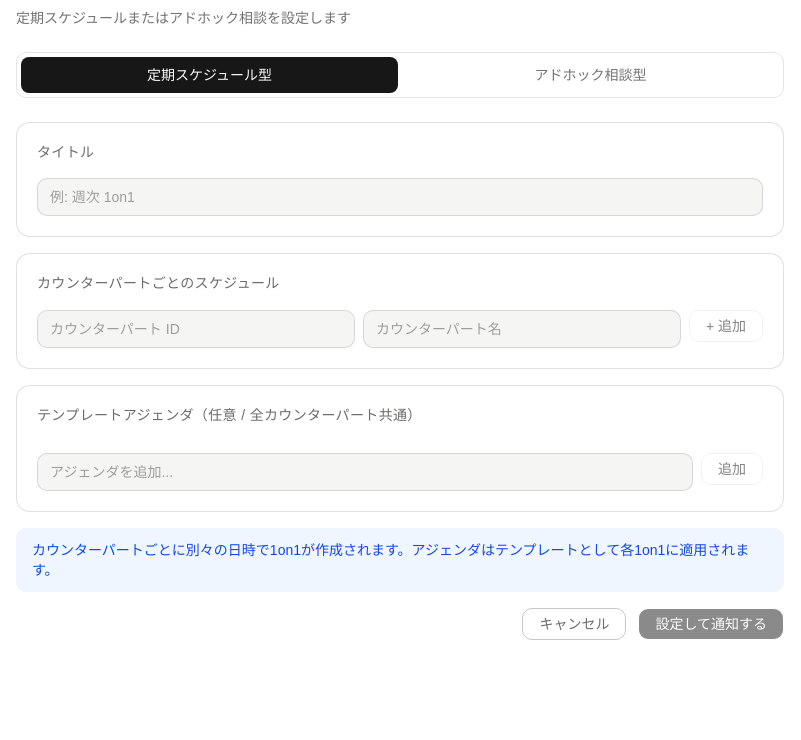
Test: SchedulingPage › switches to ad-hoc form when clicking the tab
The image size is (801, 740).
Click the button "アドホック相談型": (590, 75) x1=402 y1=57 x2=779 y2=93
(page scrolled)
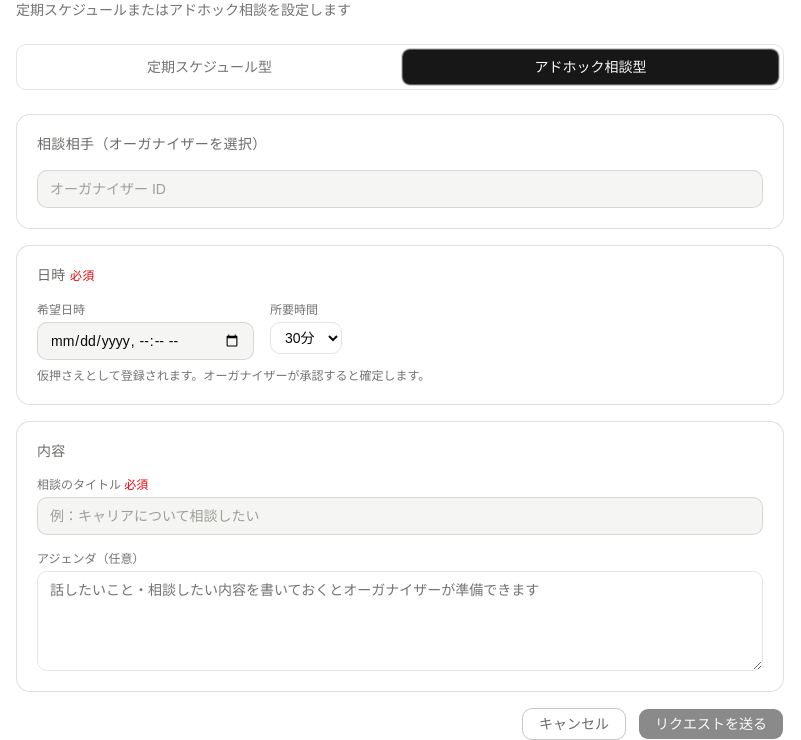
Check: the text "相談相手（オーガナイザーを選択）" is shown, box x1=37 y1=136 x2=267 y2=152
Check: the button "リクエストを送る" is shown, box x1=638 y1=708 x2=784 y2=739
